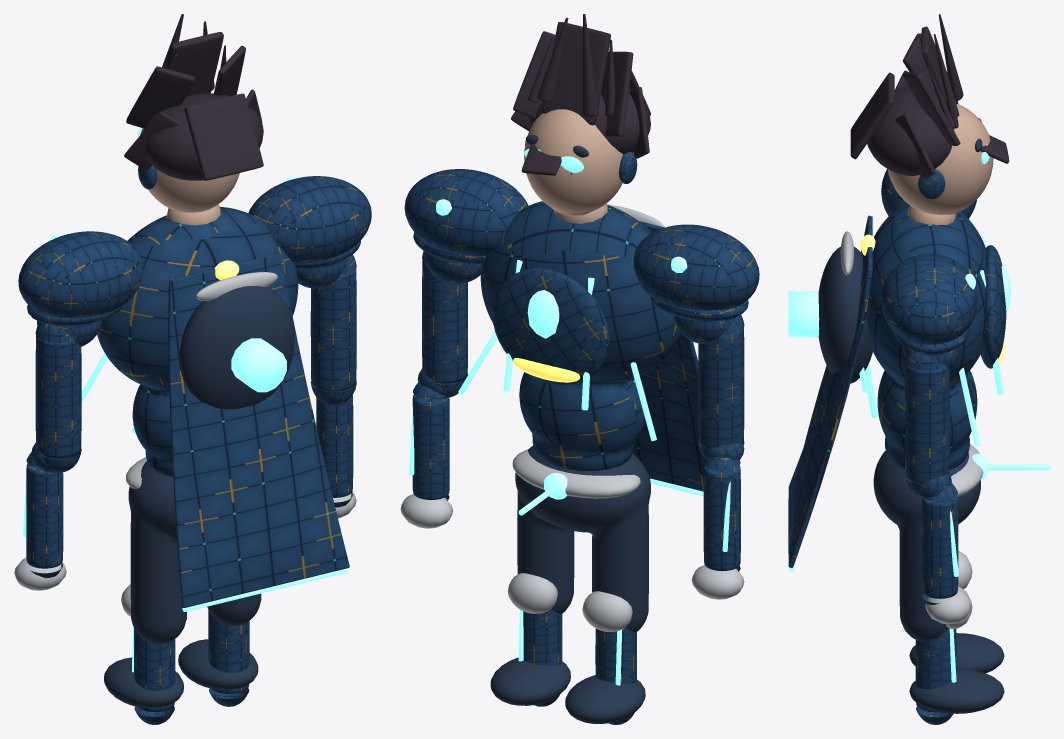
File: riser-player.glb
3 renders of one model, left to right at view 1: azimuth 30°, elevation 25°; view 2: azimuth 150°, elevation 25°; view 3: azimuth 270°, elevation 25°, orthographic. The views are drawn at different scales.
Visible parts, largest first — view 1: Player_Cape, Player_TorsoSculpt, Player_Pack, Player_HipsSculpt, Player_Pauldron_L, Player_Pauldron_R, Player_Arm_L, Player_Arm_R, Player_HairCard_Back, Player_Fore_L, Player_Hair_Volume, Player_Fore_R (+17 smaller); view 2: Player_TorsoSculpt, Player_HipsSculpt, Player_ChestPlate, Player_Pauldron_L, Player_Pauldron_R, Player_Cape, Player_Head, Player_Arm_L, Player_Arm_R, Player_Fore_R, Player_Fore_L, Player_HairCard_C (+22 smaller); view 3: Player_TorsoSculpt, Player_Pauldron_R, Player_Cape, Player_HipsSculpt, Player_Arm_R, Player_Head, Player_Pack, Player_Hair_Volume, Player_Fore_R, Player_Boot_R, Player_Shin_R, Player_ChestPlate (+20 smaller).
Part boxes in pixels (bbox=[...]): Player_Cape: bbox=[168, 253, 349, 607]; Player_TorsoSculpt: bbox=[97, 207, 298, 476]; Player_Pack: bbox=[179, 286, 294, 409]; Player_HipsSculpt: bbox=[128, 461, 261, 644]; Player_Pauldron_L: bbox=[18, 231, 143, 317]; Player_Pauldron_R: bbox=[248, 176, 371, 263]; Player_Arm_L: bbox=[35, 323, 81, 472]; Player_Arm_R: bbox=[310, 254, 356, 405]; Player_HairCard_Back: bbox=[184, 93, 263, 180]; Player_Fore_L: bbox=[26, 452, 63, 578]; Player_Hair_Volume: bbox=[143, 93, 263, 180]; Player_Fore_R: bbox=[316, 395, 353, 507]; Player_TorsoSculpt: bbox=[480, 201, 680, 470]; Player_HipsSculpt: bbox=[515, 445, 650, 631]; Player_ChestPlate: bbox=[492, 268, 609, 385]; Player_Pauldron_L: bbox=[633, 224, 759, 310]; Player_Pauldron_R: bbox=[404, 169, 528, 255]; Player_Cape: bbox=[632, 221, 705, 491]; Player_Head: bbox=[524, 109, 623, 213]; Player_Arm_L: bbox=[698, 314, 744, 457]; Player_Arm_R: bbox=[422, 252, 467, 397]; Player_Fore_R: bbox=[412, 382, 449, 500]; Player_Fore_L: bbox=[703, 457, 740, 571]; Player_HairCard_C: bbox=[542, 22, 610, 125]; Player_TorsoSculpt: bbox=[866, 203, 985, 469]; Player_Pauldron_R: bbox=[881, 253, 977, 344]; Player_Cape: bbox=[788, 215, 872, 567]; Player_HipsSculpt: bbox=[873, 450, 980, 641]; Player_Arm_R: bbox=[905, 352, 949, 496]; Player_Head: bbox=[888, 104, 993, 214]; Player_Pack: bbox=[818, 246, 872, 383]; Player_Hair_Volume: bbox=[867, 86, 954, 175]; Player_Fore_R: bbox=[921, 483, 958, 604]; Player_Boot_R: bbox=[909, 668, 1004, 713]; Player_Shin_R: bbox=[915, 628, 956, 724]; Player_ChestPlate: bbox=[980, 245, 1006, 368].
Bounding box in the file's own units: 0.9245 × 1.8 × 0.6201.
11 materials, 2 textured.
